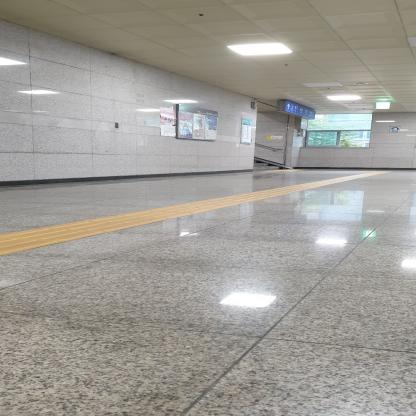go: (0, 228, 108, 242), (45, 221, 146, 233), (82, 215, 173, 224), (117, 210, 196, 219), (146, 206, 216, 213)
